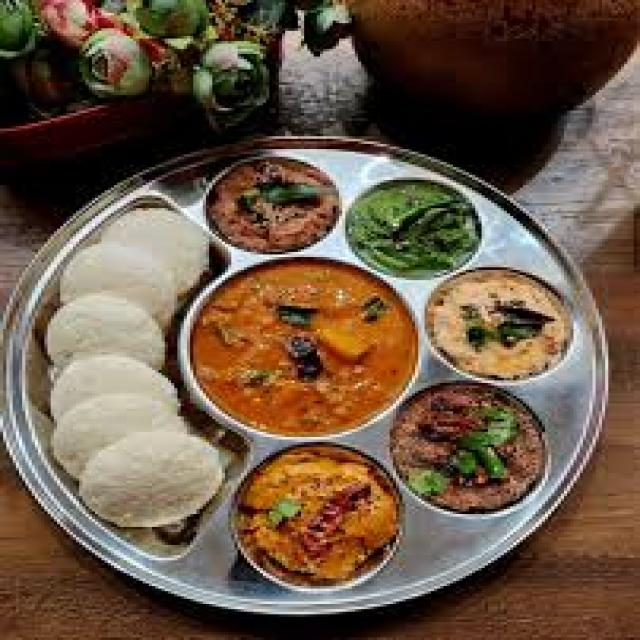IDLI: (60, 206, 206, 365), (79, 429, 222, 524), (63, 242, 200, 326), (54, 393, 187, 476), (44, 296, 162, 368), (54, 355, 174, 416)
